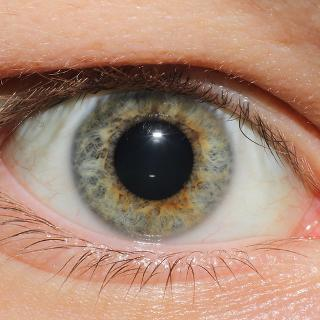pupil: (114, 119, 193, 199)
